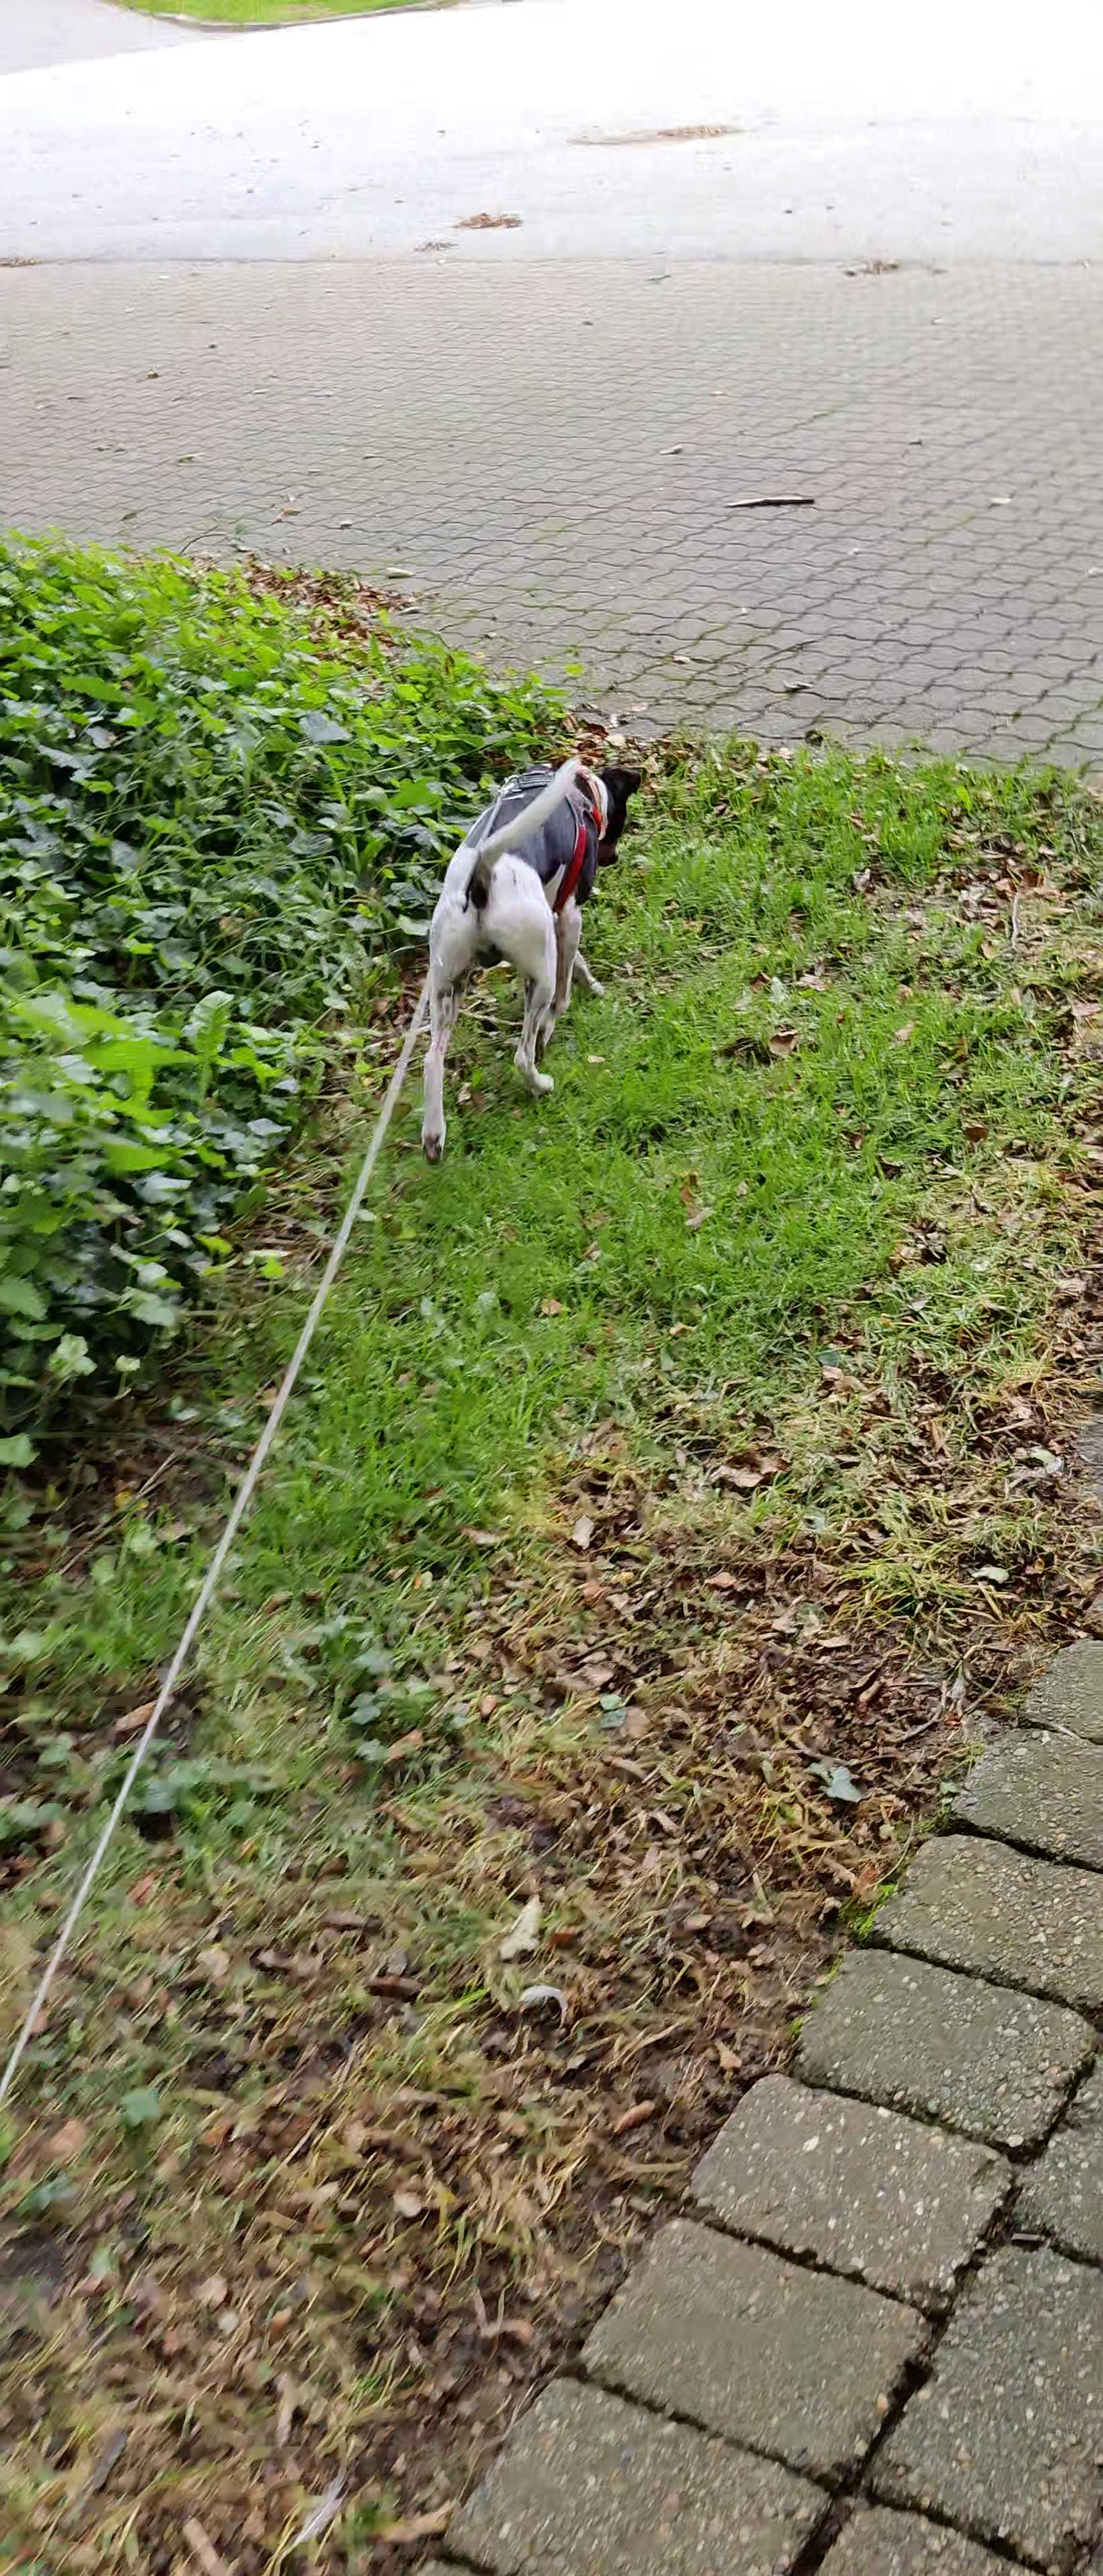Dog: (360, 728, 669, 1170)
